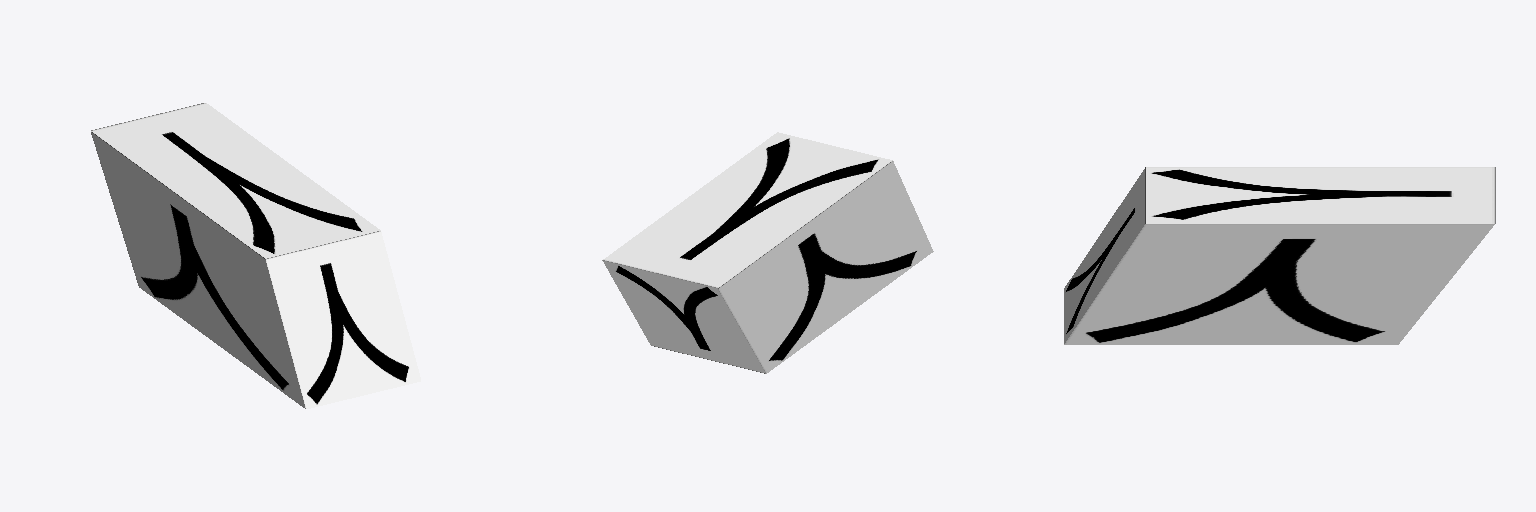
3 renders of one model, left to right at view 1: azimuth 30°, elevation 25°; view 2: azimuth 150°, elevation 25°; view 3: azimuth 270°, elevation 25°, orthographic.
Parts seen in each view (by area): view 1: Card; view 2: Card; view 3: Card.
Boxes of the visible parts, x1,y1,x2,y2 form: Card: [91, 103, 420, 408]; Card: [602, 132, 933, 373]; Card: [1064, 167, 1495, 344].
Size of the model in its own units: 1 by 1 by 3.23.
1 materials, 1 textured.